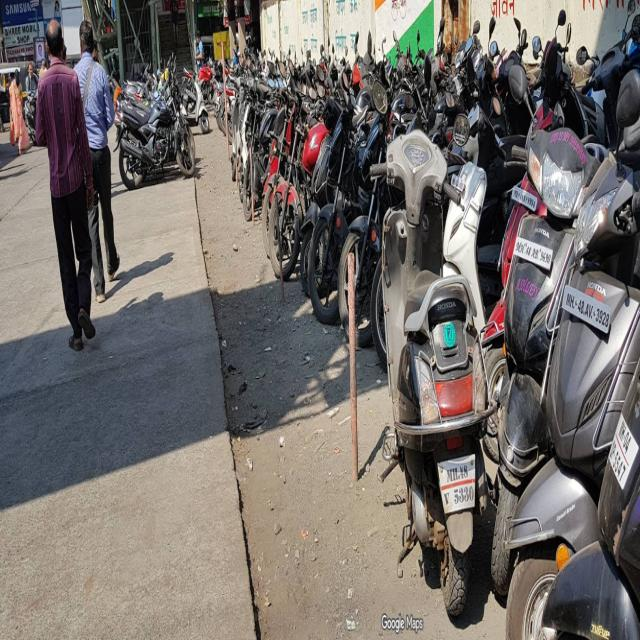Legalparking: (222, 51, 639, 620)
illegalparking: (351, 117, 509, 620), (113, 47, 201, 443)
